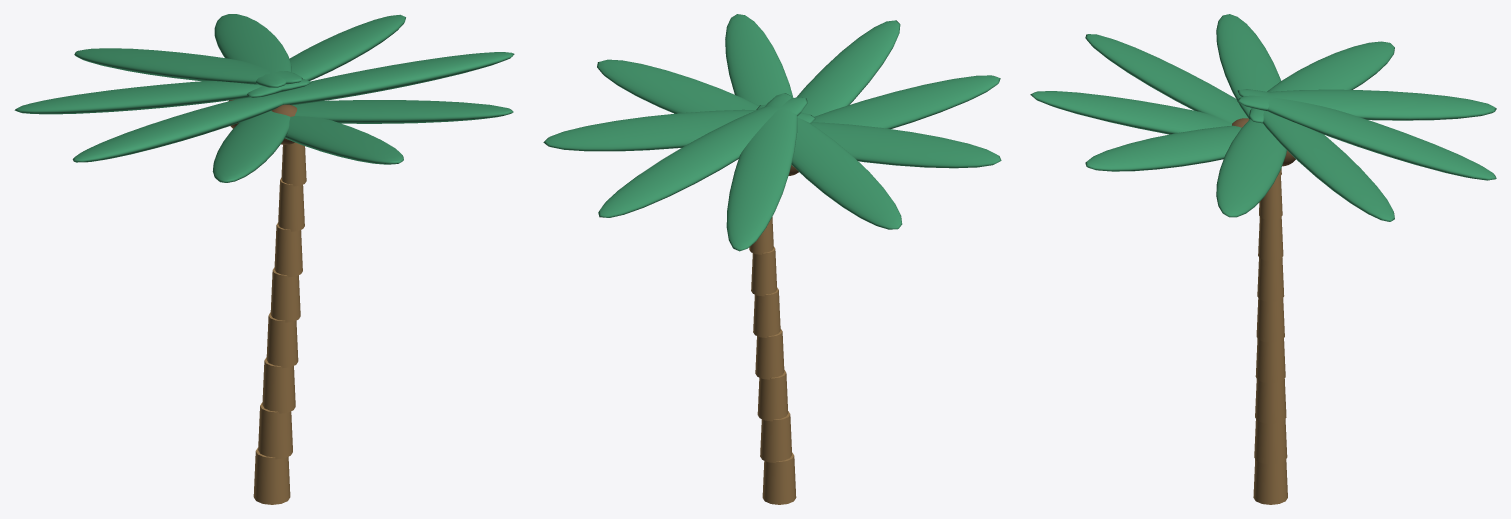
File: palm.glb
The picture shows the model from 3 angles, left to right: view 1: azimuth 30°, elevation 25°; view 2: azimuth 150°, elevation 25°; view 3: azimuth 270°, elevation 25°; orthographic projection. The views are drawn at different scales.
Bounding box in the file's own units: 7.48 × 6.96 × 7.29.
